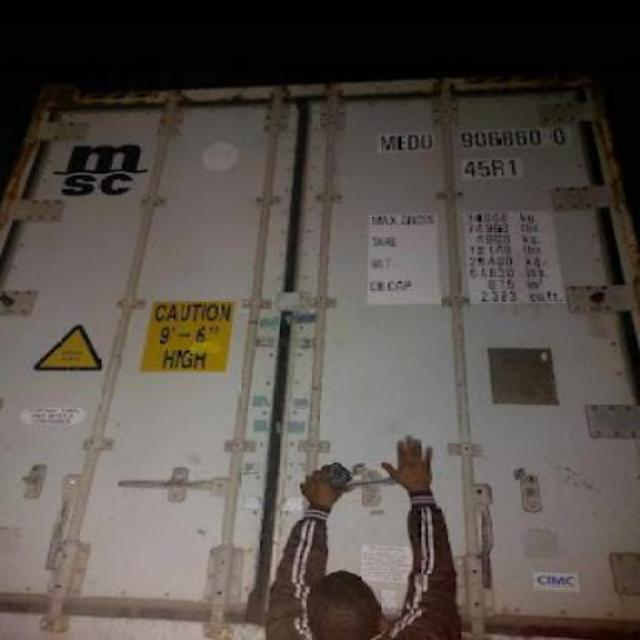0: (550, 124, 570, 154), (528, 122, 542, 152), (474, 127, 486, 151)
6: (514, 119, 528, 151), (488, 125, 502, 151)
8: (502, 126, 514, 150)
9: (458, 124, 472, 148)
D: (406, 128, 418, 158)
E: (396, 130, 408, 154)
M: (376, 129, 394, 153)
U: (421, 125, 434, 151)
